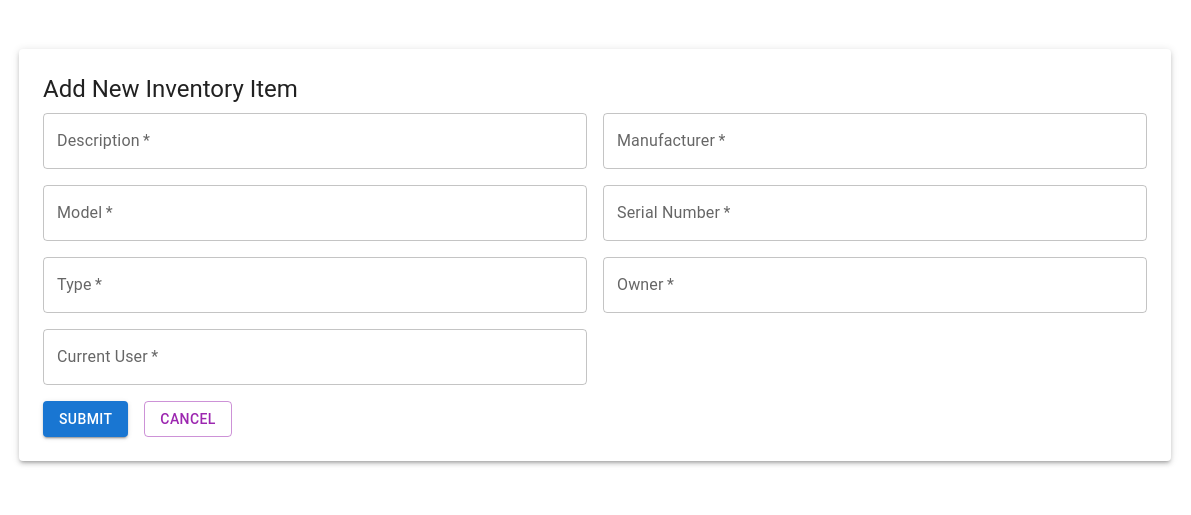
AddInventory Component › displays error message for duplicate serial number
Type "Test Item" into the field labelled "Description *" at (315, 141), box [43,113,587,169]
Type "Test Manufacturer" into the field labelled "Manufacturer *" at (875, 141), box [603,113,1147,169]
Type "Test Model" into the field labelled "Model *" at (315, 213), box [43,185,587,241]
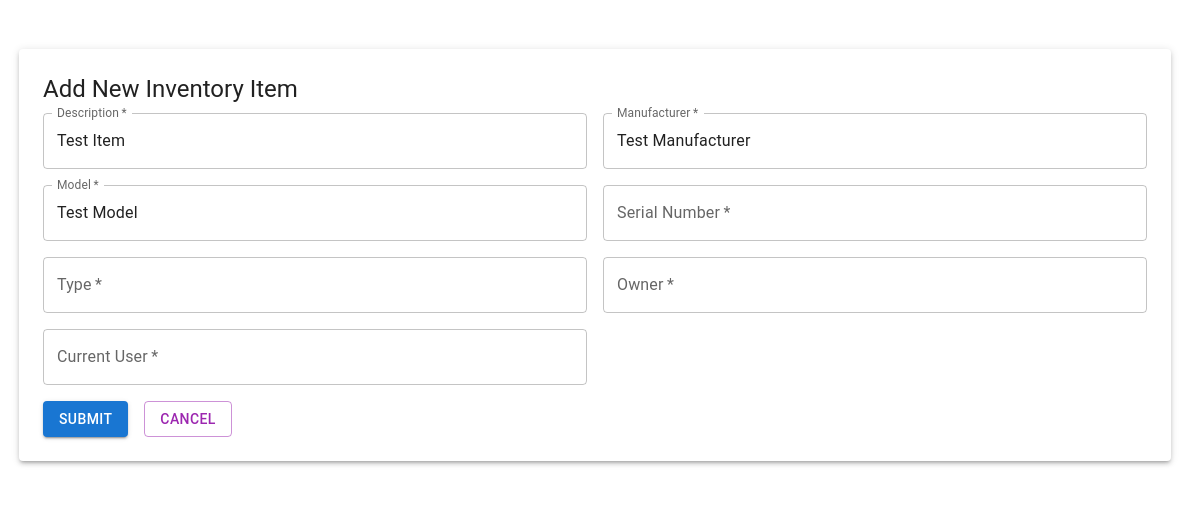
Type "TEST123" into the field labelled "Serial Number *" at (875, 213), box [603,185,1147,241]
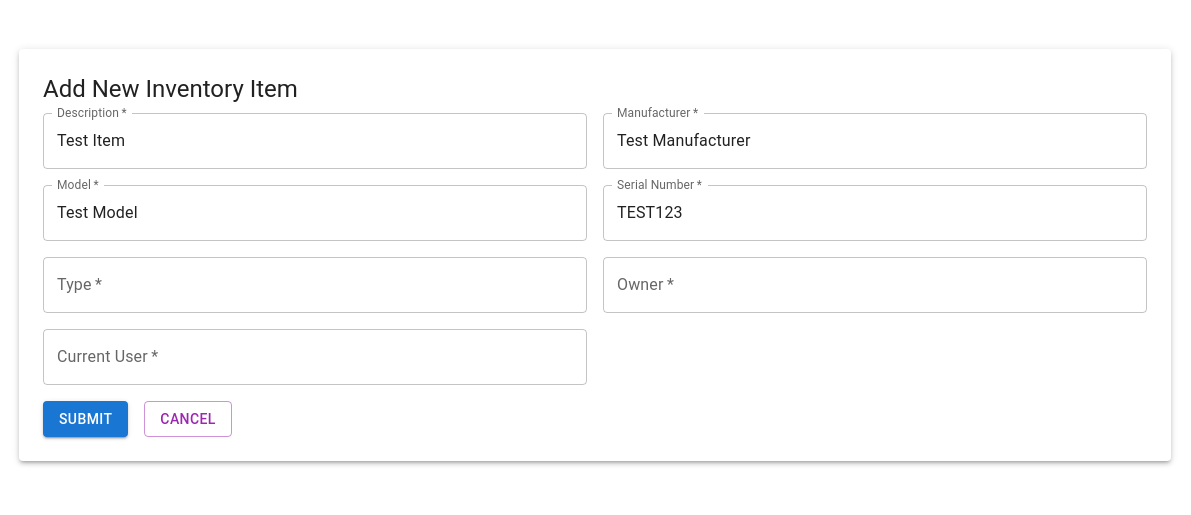
Type "Test Type" into the field labelled "Type *" at (315, 285), box [43,257,587,313]
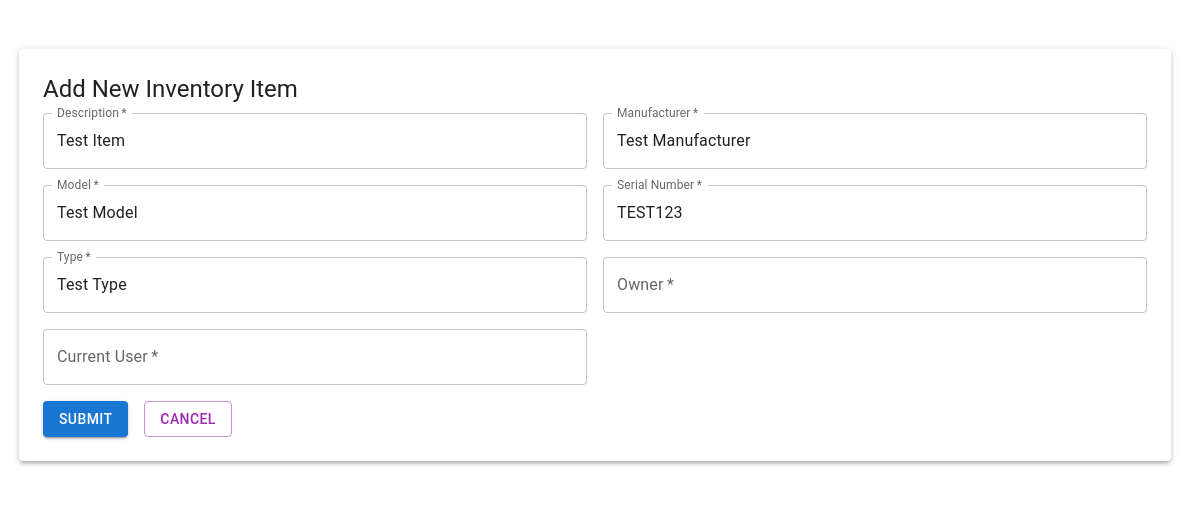
Type "Test Owner" into the field labelled "Owner *" at (875, 285), box [603,257,1147,313]
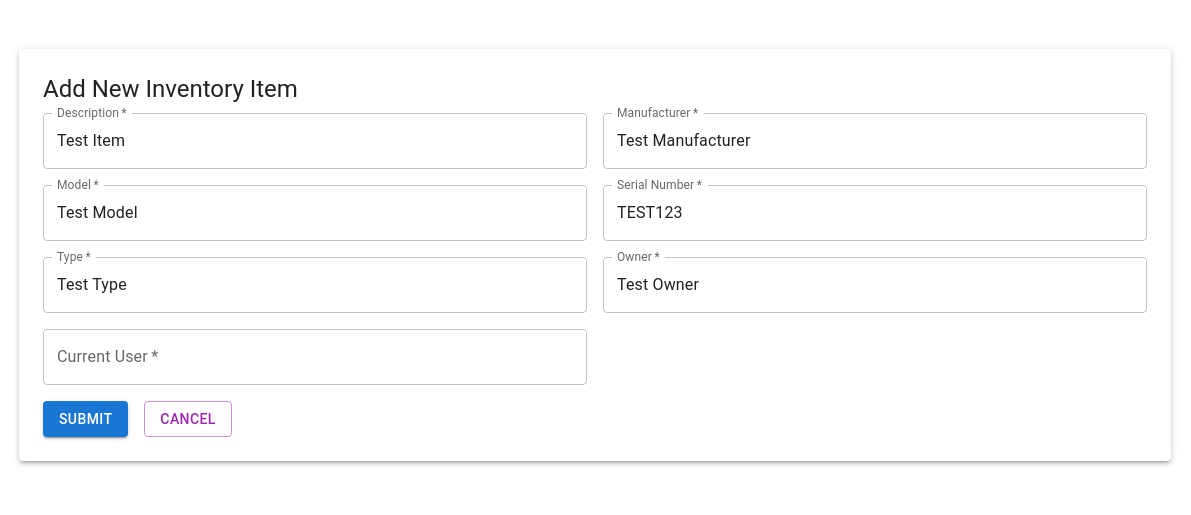
Type "Test User" into the field labelled "Current User *" at (315, 357), box [43,329,587,385]
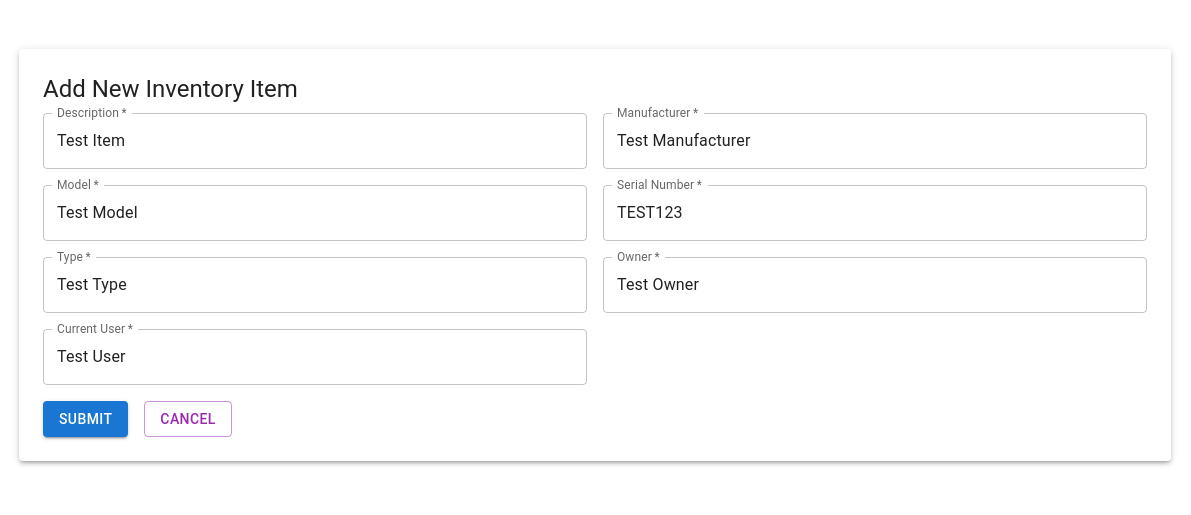
Click the button "Submit" at (86, 419), box [43,401,128,438]
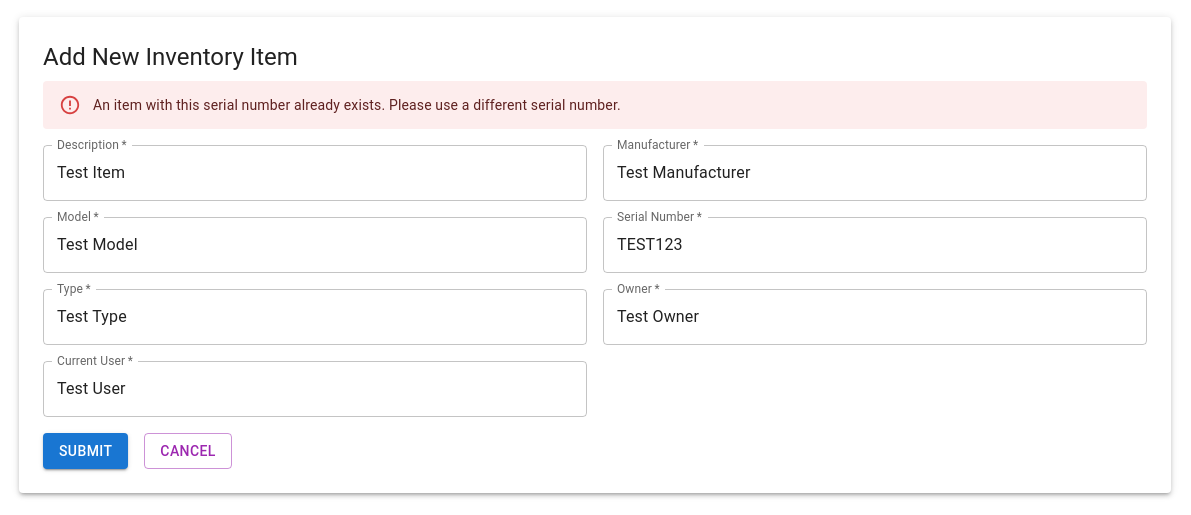
Expected: the text "serial number already exists" is shown, [93,97,621,113]
